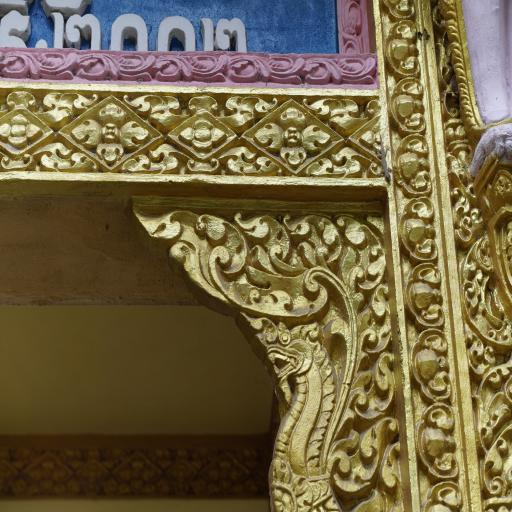hoa: (250, 96, 332, 176), (73, 92, 148, 170), (178, 110, 226, 158), (0, 110, 42, 156)
la: (331, 413, 406, 504), (133, 212, 210, 288), (192, 212, 252, 300), (240, 209, 298, 288), (281, 215, 345, 278), (352, 346, 402, 418), (409, 320, 456, 393), (417, 398, 458, 481), (336, 219, 383, 289), (390, 134, 436, 202), (402, 201, 444, 272), (406, 264, 449, 329), (384, 16, 425, 84), (356, 287, 398, 351), (389, 74, 429, 139), (382, 0, 414, 23)
ran: (234, 305, 359, 512)
